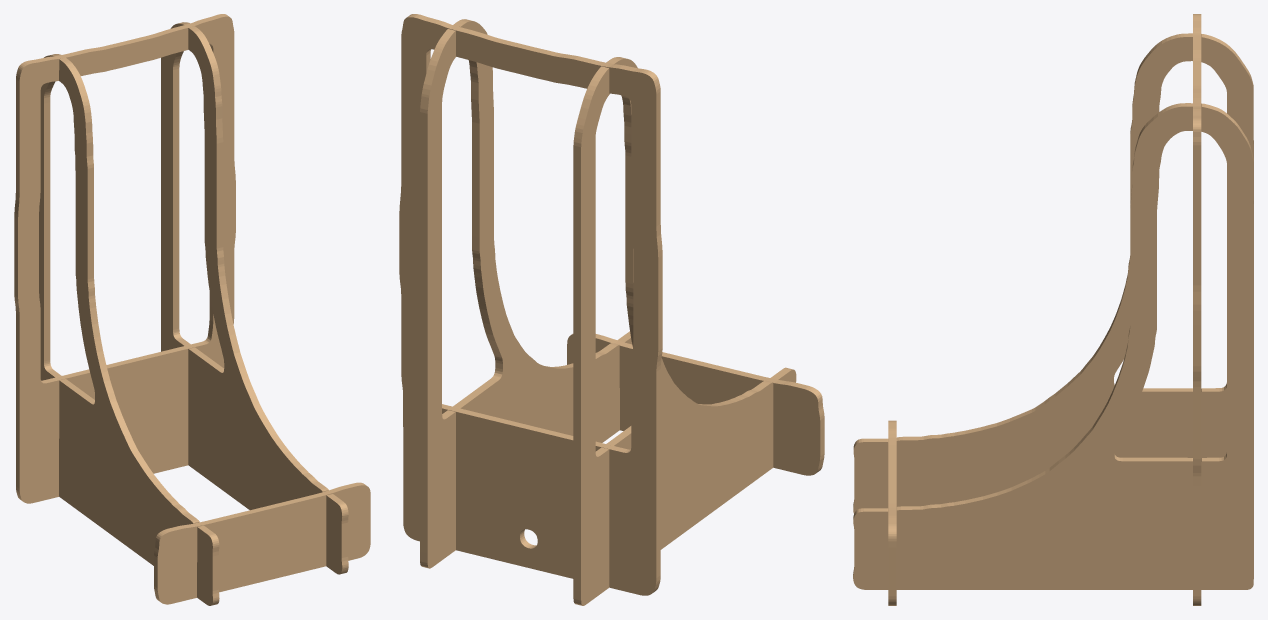
File: samla.glb
3 views of the same model, side by side, from view 1: azimuth 30°, elevation 25°; view 2: azimuth 150°, elevation 25°; view 3: azimuth 270°, elevation 25° (orthographic). The views are drawn at different scales.
Parts seen in each view (by area): view 1: slicer-lestemning; view 2: slicer-lestemning; view 3: slicer-lestemning.
Boxes of the visible parts, left/top/right/bottom form: slicer-lestemning: left=14, top=14, right=370, bottom=605; slicer-lestemning: left=399, top=14, right=824, bottom=605; slicer-lestemning: left=853, top=14, right=1253, bottom=605.
Bounding box in the file's own units: 0.135 × 0.2605 × 0.1946.
